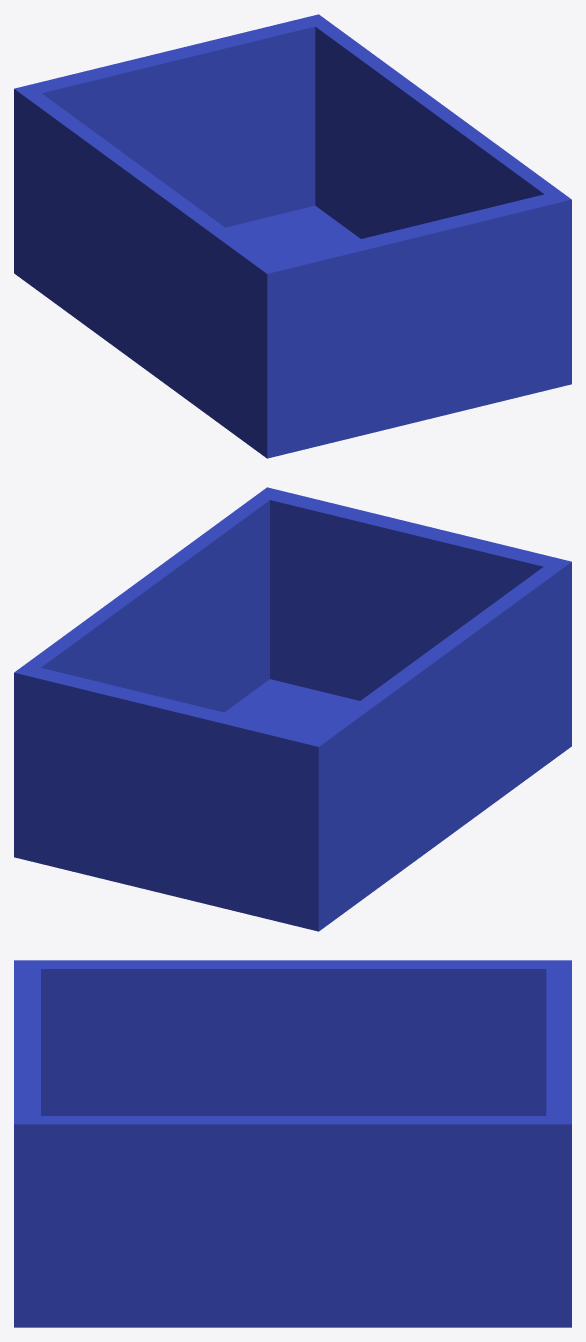
File: plasticBox_YCB_coll2.dae
3 renders of one model, top to bottom at view 1: azimuth 30°, elevation 25°; view 2: azimuth 150°, elevation 25°; view 3: azimuth 270°, elevation 25°, orthographic. The views are drawn at different scales.
Parts seen in each view (by area): view 1: Cube; view 2: Cube; view 3: Cube.
Boxes of the visible parts, x1=… form: Cube: x1=14, y1=14, x2=571, y2=458; Cube: x1=14, y1=487, x2=571, y2=931; Cube: x1=14, y1=960, x2=571, y2=1327.
Size of the model in its own units: 0.285 by 0.41 by 0.165.
